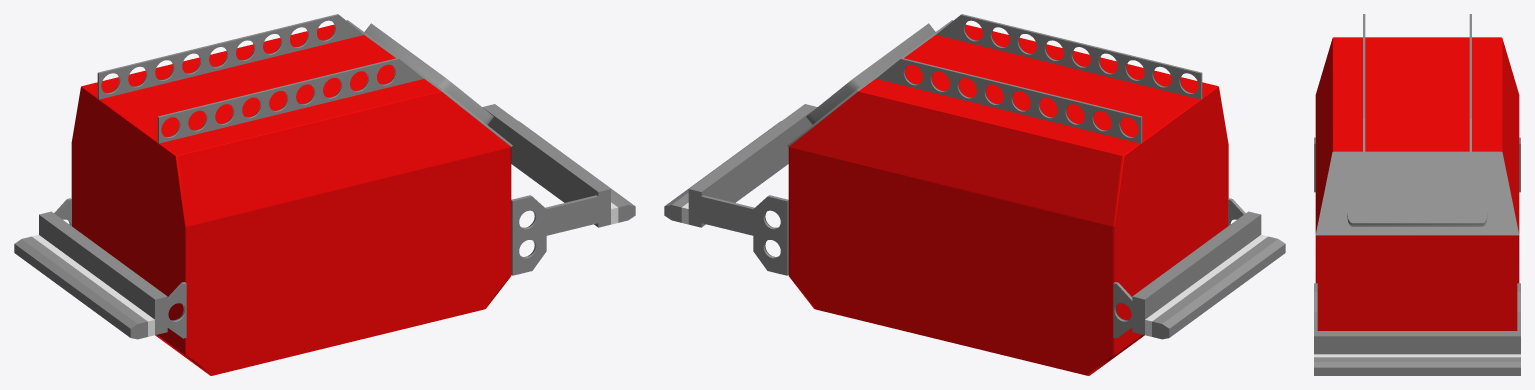
Rendered from robitChassisVisual.dae.
3 renders of one model, left to right at view 1: azimuth 30°, elevation 25°; view 2: azimuth 150°, elevation 25°; view 3: azimuth 270°, elevation 25°, orthographic. The views are drawn at different scales.
Visible parts, largest first — view 1: Combined Mesh; view 2: Combined Mesh; view 3: Combined Mesh.
Part boxes in pixels (x1=…): Combined Mesh: x1=14, y1=14, x2=635, y2=375; Combined Mesh: x1=664, y1=14, x2=1285, y2=375; Combined Mesh: x1=1314, y1=14, x2=1520, y2=375.
Size of the model in its own units: 0.9934 by 0.396 by 0.4614.
